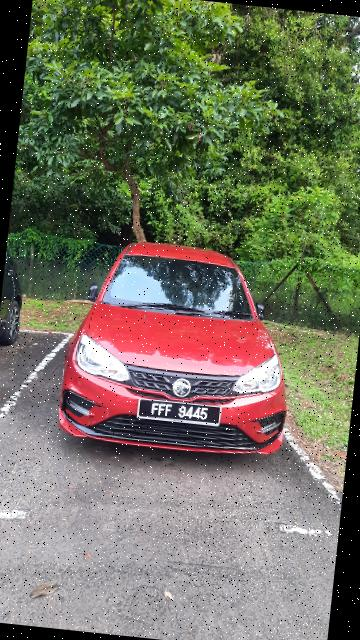License_Plate: (137, 397, 224, 430)
car: (55, 234, 304, 466)
